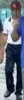boots: (4, 89, 13, 96), (0, 96, 7, 100)
hard-hat: (0, 0, 8, 6)
